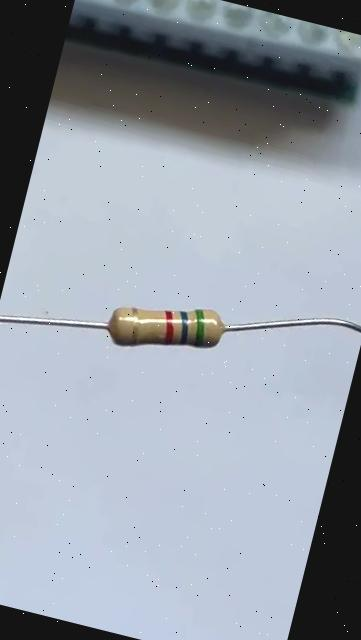blue: (178, 310, 188, 347)
gold: (129, 309, 140, 346)
green: (191, 309, 205, 349)
red: (162, 310, 174, 345)
resistor: (100, 296, 234, 356)
